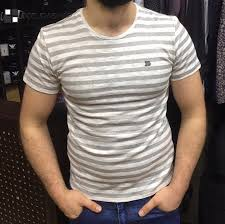striped: (19, 5, 207, 206)
